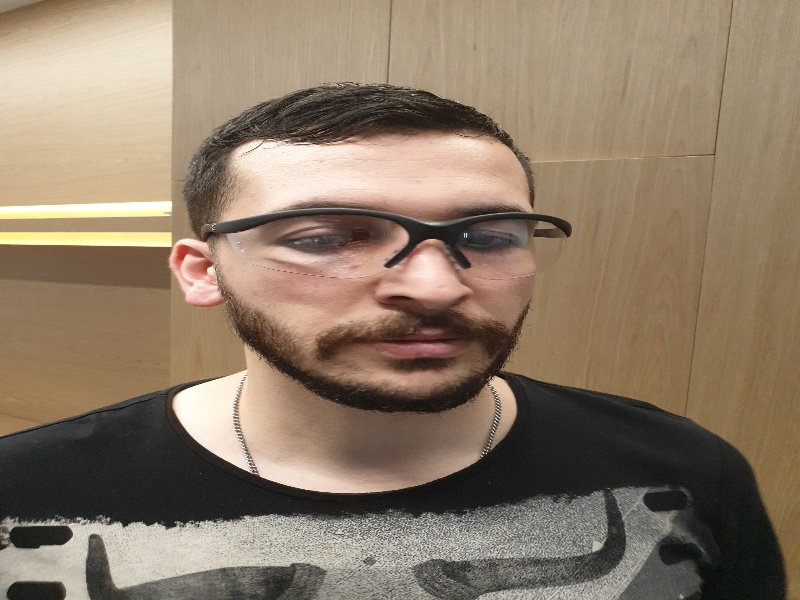Gozluk: (203, 207, 575, 286)
